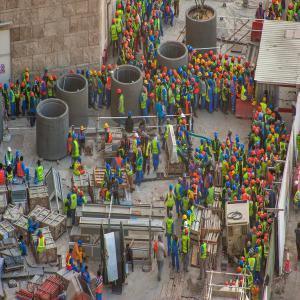blue: (78, 240, 83, 249), (179, 68, 184, 76), (158, 235, 163, 243), (240, 261, 245, 269), (236, 175, 241, 183), (209, 72, 214, 80), (163, 80, 168, 87), (183, 72, 188, 79), (43, 75, 48, 82), (137, 140, 142, 147), (138, 149, 143, 156), (178, 178, 183, 185), (226, 183, 231, 190), (236, 137, 241, 144), (275, 108, 280, 115), (208, 61, 213, 68), (87, 71, 91, 79), (16, 151, 20, 159), (68, 193, 72, 201), (173, 232, 177, 240), (170, 211, 174, 219), (178, 140, 182, 148), (192, 156, 196, 164), (226, 154, 230, 162), (256, 279, 260, 287), (157, 5, 161, 12), (122, 28, 126, 35), (169, 73, 173, 80), (173, 78, 177, 85), (279, 13, 283, 20), (45, 67, 49, 74), (73, 135, 77, 142), (78, 157, 82, 164), (167, 119, 171, 126), (154, 133, 158, 140), (143, 119, 147, 126), (125, 134, 129, 141), (73, 188, 77, 195), (117, 165, 121, 172), (107, 165, 111, 172), (105, 175, 109, 182), (170, 185, 174, 192), (180, 131, 184, 138), (198, 169, 202, 176), (208, 139, 212, 146), (215, 133, 219, 140), (197, 162, 201, 169), (248, 266, 252, 273), (247, 242, 251, 249), (256, 248, 260, 255), (229, 189, 233, 196), (233, 186, 237, 193), (235, 152, 239, 159), (242, 145, 246, 152), (257, 141, 261, 148), (261, 174, 265, 181), (274, 149, 278, 156), (276, 127, 280, 134), (282, 122, 286, 129), (250, 79, 254, 86), (247, 70, 251, 77), (245, 82, 249, 89), (240, 77, 244, 84), (234, 77, 238, 84), (217, 72, 221, 79), (212, 64, 216, 71), (209, 80, 213, 87), (155, 2, 159, 8), (148, 27, 152, 33), (151, 37, 155, 43), (143, 88, 147, 94), (188, 94, 192, 100), (190, 47, 194, 53), (192, 69, 196, 75), (189, 74, 193, 80), (108, 72, 112, 78), (129, 112, 133, 118), (181, 127, 185, 133), (184, 174, 187, 182), (192, 179, 196, 185), (196, 153, 200, 159), (197, 148, 201, 154), (201, 139, 205, 145), (200, 155, 204, 161), (188, 211, 192, 217), (237, 143, 241, 149), (229, 131, 233, 137), (249, 162, 253, 168), (257, 161, 261, 167), (260, 124, 264, 130), (275, 123, 279, 129), (278, 121, 282, 127), (270, 105, 274, 111), (142, 132, 145, 139), (240, 157, 243, 164), (272, 144, 275, 151), (259, 121, 263, 126), (157, 13, 160, 19), (260, 3, 263, 9), (138, 130, 141, 136), (255, 121, 258, 127), (260, 116, 263, 122), (134, 1, 138, 5), (269, 132, 272, 137)
none: (97, 270, 102, 279), (127, 157, 132, 165), (33, 215, 38, 222), (85, 267, 90, 274), (107, 185, 112, 192), (282, 150, 287, 157), (145, 136, 149, 144), (20, 235, 24, 243), (70, 248, 74, 256), (159, 65, 163, 72), (17, 80, 21, 87), (82, 70, 86, 77), (69, 133, 73, 140), (140, 123, 144, 130), (21, 156, 25, 163), (113, 177, 117, 184), (127, 244, 131, 251), (185, 192, 189, 199), (190, 201, 194, 208), (207, 168, 211, 175), (200, 239, 204, 246), (252, 145, 256, 152), (271, 169, 275, 176), (121, 52, 125, 58), (149, 55, 153, 61), (147, 65, 151, 71), (154, 70, 158, 76), (159, 97, 163, 103), (122, 144, 126, 150), (38, 161, 42, 167), (180, 101, 184, 107), (179, 139, 183, 145), (210, 183, 214, 189), (258, 207, 262, 213), (252, 140, 256, 146), (223, 190, 227, 196), (269, 120, 273, 126), (203, 77, 207, 83), (135, 53, 138, 60), (72, 126, 75, 133), (118, 151, 121, 158), (1, 164, 4, 171), (204, 145, 207, 152), (231, 155, 234, 162), (228, 66, 231, 73), (183, 41, 187, 46), (152, 74, 155, 80), (270, 8, 273, 14), (271, 14, 274, 20), (298, 222, 300, 231)
red: (151, 93, 156, 101), (118, 89, 123, 97), (185, 229, 190, 237), (238, 267, 243, 275), (240, 281, 245, 289), (36, 76, 40, 85), (222, 144, 226, 153), (230, 72, 234, 81), (127, 6, 132, 13), (171, 84, 176, 91), (186, 82, 191, 89), (118, 4, 123, 11), (53, 75, 58, 82), (183, 120, 188, 127), (260, 215, 265, 222), (225, 55, 230, 62), (210, 51, 215, 58), (167, 6, 171, 14), (75, 186, 79, 194), (80, 191, 84, 199), (257, 239, 261, 247), (232, 165, 236, 173), (253, 151, 257, 159), (233, 157, 237, 165), (112, 20, 117, 26), (173, 70, 178, 76), (264, 238, 269, 244), (251, 181, 256, 187), (234, 148, 239, 154), (153, 13, 157, 20), (151, 20, 155, 27), (150, 31, 154, 38), (138, 3, 142, 10), (133, 10, 137, 17), (136, 17, 140, 24), (128, 23, 132, 30), (126, 31, 130, 38), (128, 37, 132, 44), (127, 54, 131, 61), (131, 56, 135, 63), (142, 56, 146, 63), (152, 64, 156, 71), (147, 75, 151, 82), (164, 67, 168, 74), (166, 77, 170, 84), (175, 73, 179, 80), (177, 79, 181, 86), (192, 79, 196, 86), (194, 50, 198, 57), (190, 65, 194, 72), (108, 65, 112, 72), (103, 66, 107, 73), (289, 4, 293, 11), (294, 13, 298, 20), (11, 84, 15, 91), (27, 78, 31, 85), (31, 93, 35, 100), (202, 152, 206, 159), (196, 179, 200, 186), (193, 185, 197, 192), (242, 275, 246, 282), (254, 227, 258, 234), (259, 225, 263, 232), (264, 213, 268, 220), (269, 220, 273, 227), (259, 212, 263, 219), (259, 199, 263, 206), (257, 196, 261, 203), (267, 193, 271, 200), (248, 196, 252, 203), (242, 188, 246, 195), (245, 181, 249, 188), (257, 179, 261, 186), (261, 150, 265, 157), (268, 146, 272, 153), (257, 112, 261, 119), (254, 115, 258, 122), (249, 173, 253, 180), (252, 173, 256, 180), (262, 185, 266, 192), (283, 135, 287, 142), (246, 62, 250, 69), (238, 57, 242, 64), (238, 65, 242, 72), (232, 57, 236, 64), (224, 73, 228, 80), (225, 80, 229, 87), (226, 62, 230, 69), (218, 60, 222, 67), (220, 54, 224, 61), (213, 56, 217, 63), (205, 54, 209, 61), (205, 63, 209, 70), (156, 32, 160, 38), (144, 23, 148, 29), (129, 18, 133, 24), (116, 13, 120, 19), (125, 41, 129, 47), (129, 50, 133, 56), (143, 73, 146, 81), (163, 73, 167, 79), (196, 67, 200, 73), (22, 83, 26, 89), (194, 173, 198, 179), (242, 258, 246, 264), (257, 234, 261, 240), (261, 204, 265, 210), (265, 156, 269, 162), (253, 127, 257, 133), (256, 130, 260, 136), (259, 107, 263, 113), (272, 114, 276, 120), (249, 158, 253, 164), (255, 159, 259, 165), (287, 138, 291, 144), (216, 68, 220, 74), (144, 61, 147, 68), (130, 33, 133, 39), (1, 83, 3, 91), (128, 2, 131, 7), (115, 65, 118, 70), (273, 1, 276, 6), (158, 1, 161, 5)
white: (8, 161, 13, 169), (136, 133, 140, 141), (8, 147, 12, 155), (185, 221, 189, 229), (181, 114, 186, 120)
yellow: (80, 126, 85, 134), (157, 80, 162, 87), (25, 73, 30, 80), (190, 195, 195, 202), (183, 215, 188, 222), (274, 158, 279, 165), (268, 110, 273, 117), (214, 74, 219, 81), (99, 71, 103, 79), (145, 81, 149, 88), (197, 59, 201, 66), (199, 73, 203, 80), (94, 71, 98, 78), (90, 71, 94, 78), (105, 124, 109, 131), (228, 141, 232, 148), (232, 172, 236, 179), (269, 160, 273, 167), (269, 134, 273, 141), (272, 129, 276, 136), (253, 102, 257, 109), (242, 69, 246, 76), (234, 67, 238, 74), (219, 67, 223, 74), (206, 73, 210, 80), (199, 55, 203, 61), (202, 60, 206, 66), (276, 2, 280, 8), (26, 68, 30, 74), (226, 177, 230, 183), (272, 139, 276, 145), (264, 98, 268, 104), (156, 76, 159, 82), (244, 168, 247, 174), (161, 75, 164, 80), (278, 18, 281, 23)
